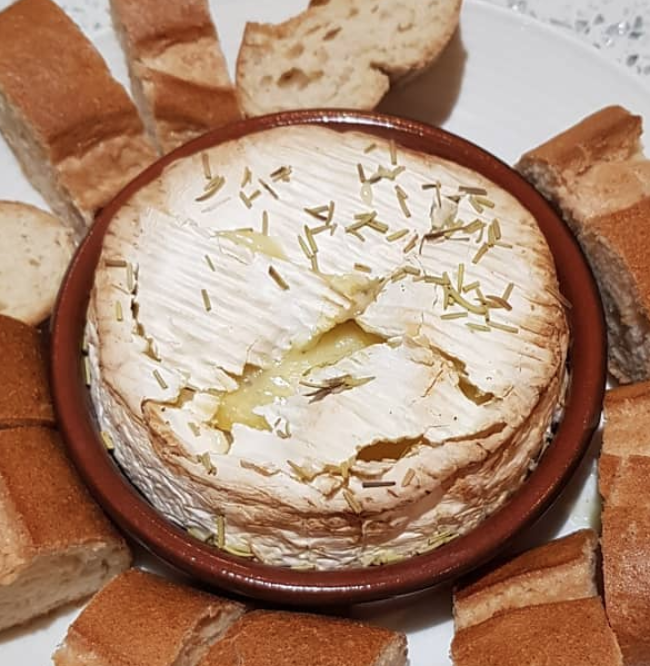camembert: (78, 121, 572, 575)
